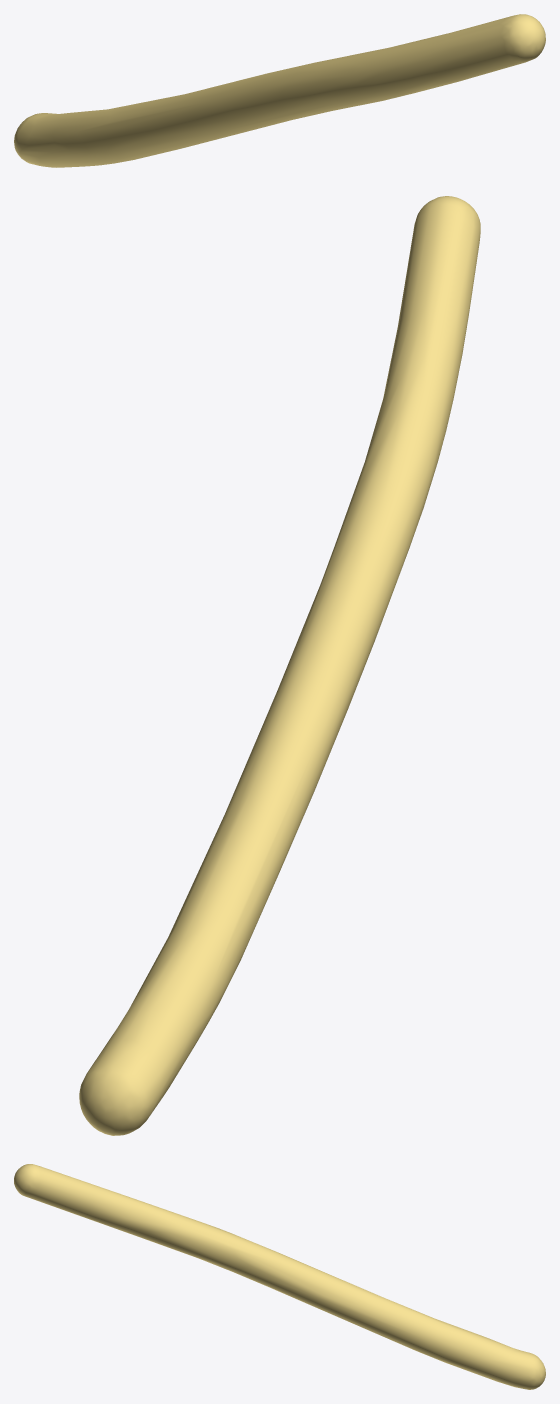
File: fma52640_fj1290.glb
The picture shows the model from 3 angles, top to bottom: view 1: azimuth 30°, elevation 25°; view 2: azimuth 150°, elevation 25°; view 3: azimuth 270°, elevation 25°; orthographic projection. The views are drawn at different scales.
Visible parts, largest first — view 1: FMA52640_FJ1290; view 2: FMA52640_FJ1290; view 3: FMA52640_FJ1290.
Boxes of the visible parts, x1,y1,x2,y2 form: FMA52640_FJ1290: (14, 14, 545, 167); FMA52640_FJ1290: (79, 196, 480, 1135); FMA52640_FJ1290: (14, 1164, 545, 1389).
Bounding box in the file's own units: 0.00539 × 0.0118 × 0.0216.
